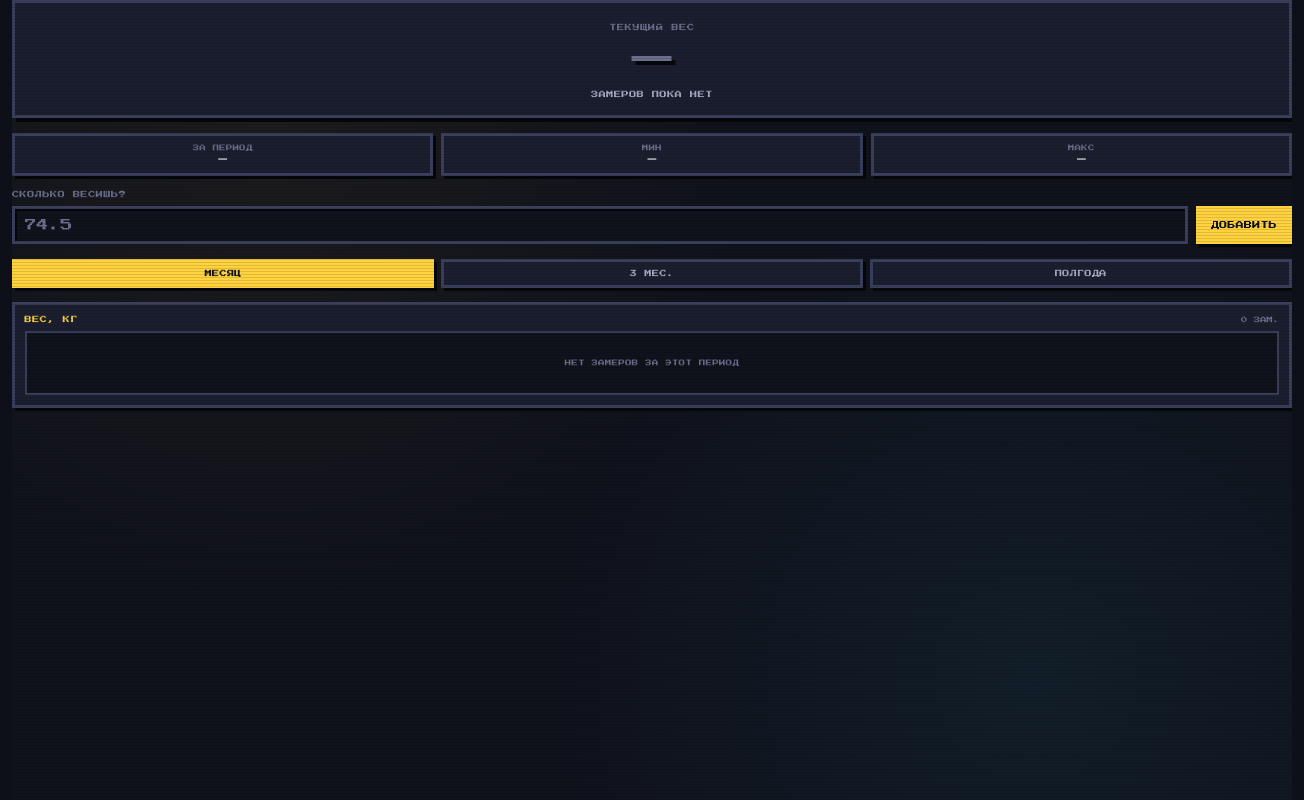
Test: WeightPageComponent › validation › refuses a weight below the limit
The width and height of the screenshot is (1304, 800).
Type "5" into the field with class "entry-input" at (600, 225), box x1=12 y1=206 x2=1188 y2=244
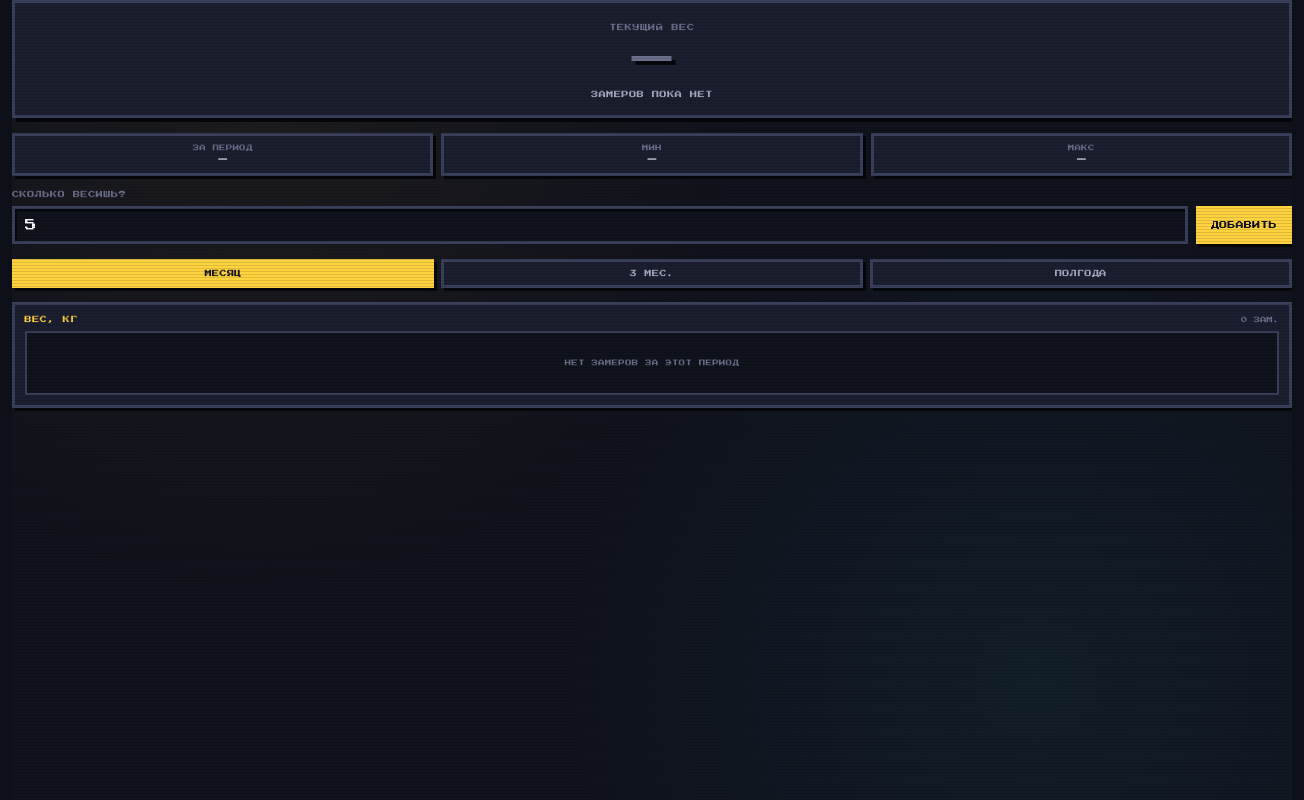
Submit the form with class "entry-form", box x1=12 y1=191 x2=1292 y2=244
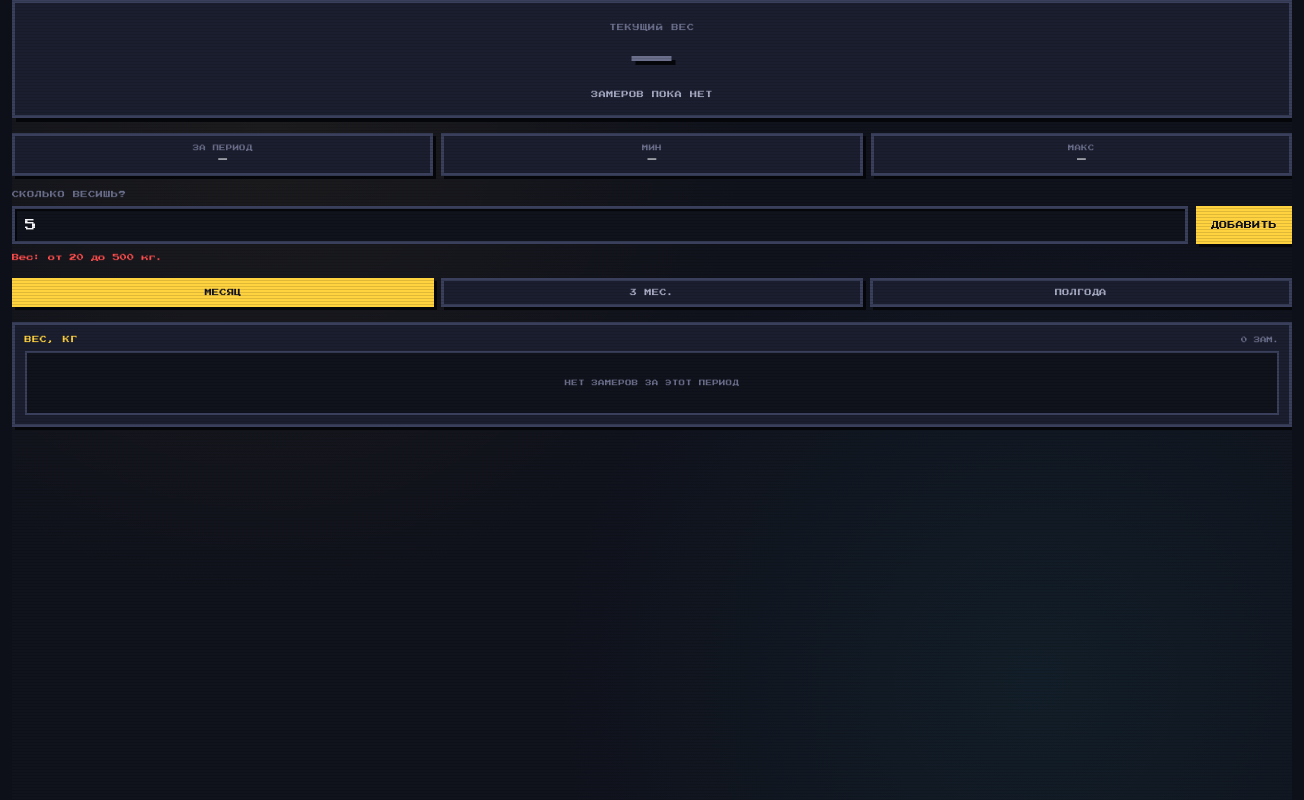
Check: the message with class "entry-error" reads "Вес: от 20 до 500 кг.", box x1=12 y1=254 x2=163 y2=261
